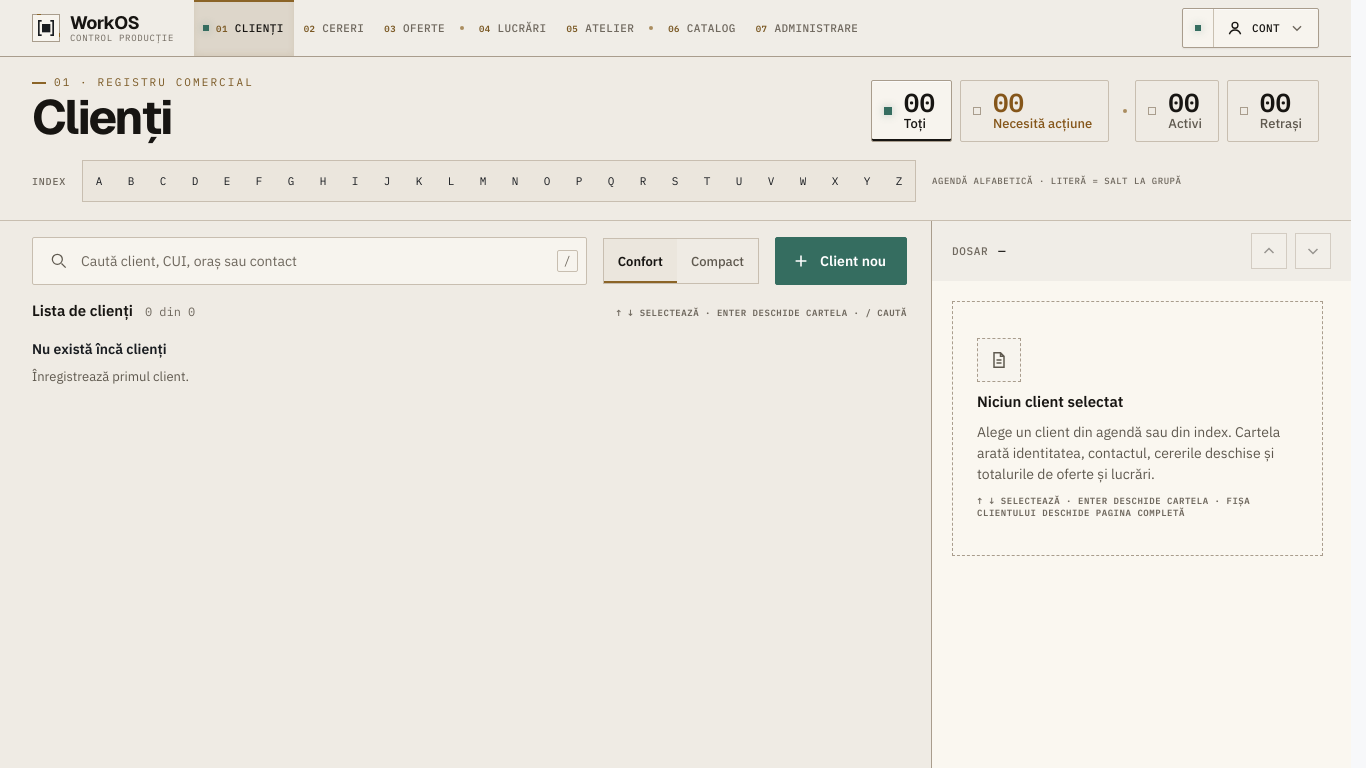
Test case: App Cloud auth integration › shows organization and user after a successful Cloud session
Click the button "Cont".
click(1266, 28)  # box [1214,9,1318,47]
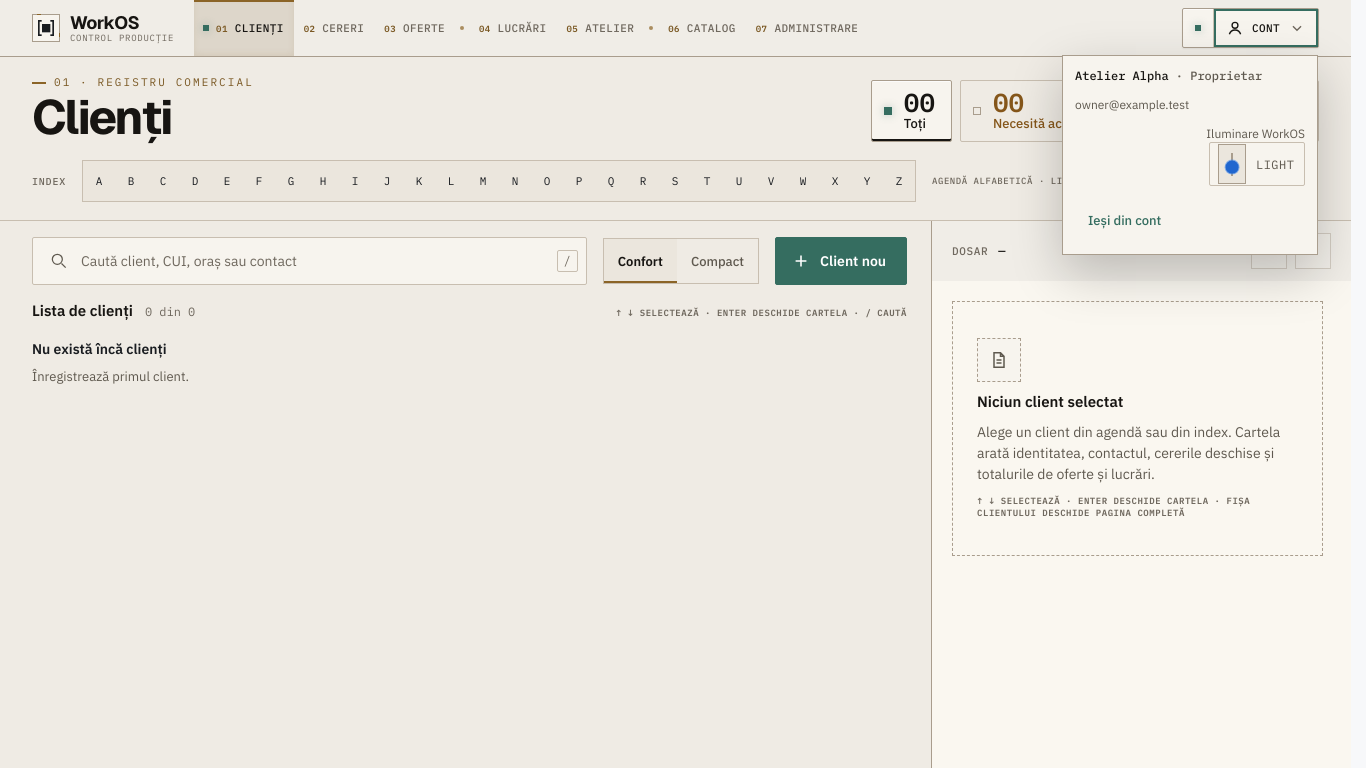
Check: the heading "Clienți" is shown, box [32,90,171,145]
Check: the text "owner@example.test" is shown, box [1075,97,1189,112]
